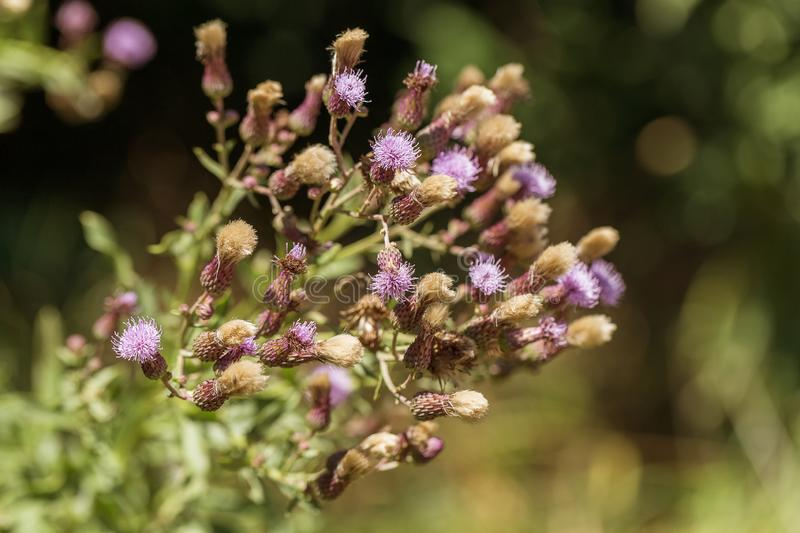thistle: (111, 321, 170, 382), (265, 244, 310, 315), (260, 323, 335, 364), (552, 261, 604, 318), (398, 58, 437, 128), (325, 68, 370, 123), (431, 150, 482, 198), (367, 127, 404, 188), (369, 243, 414, 293), (464, 254, 503, 308)
